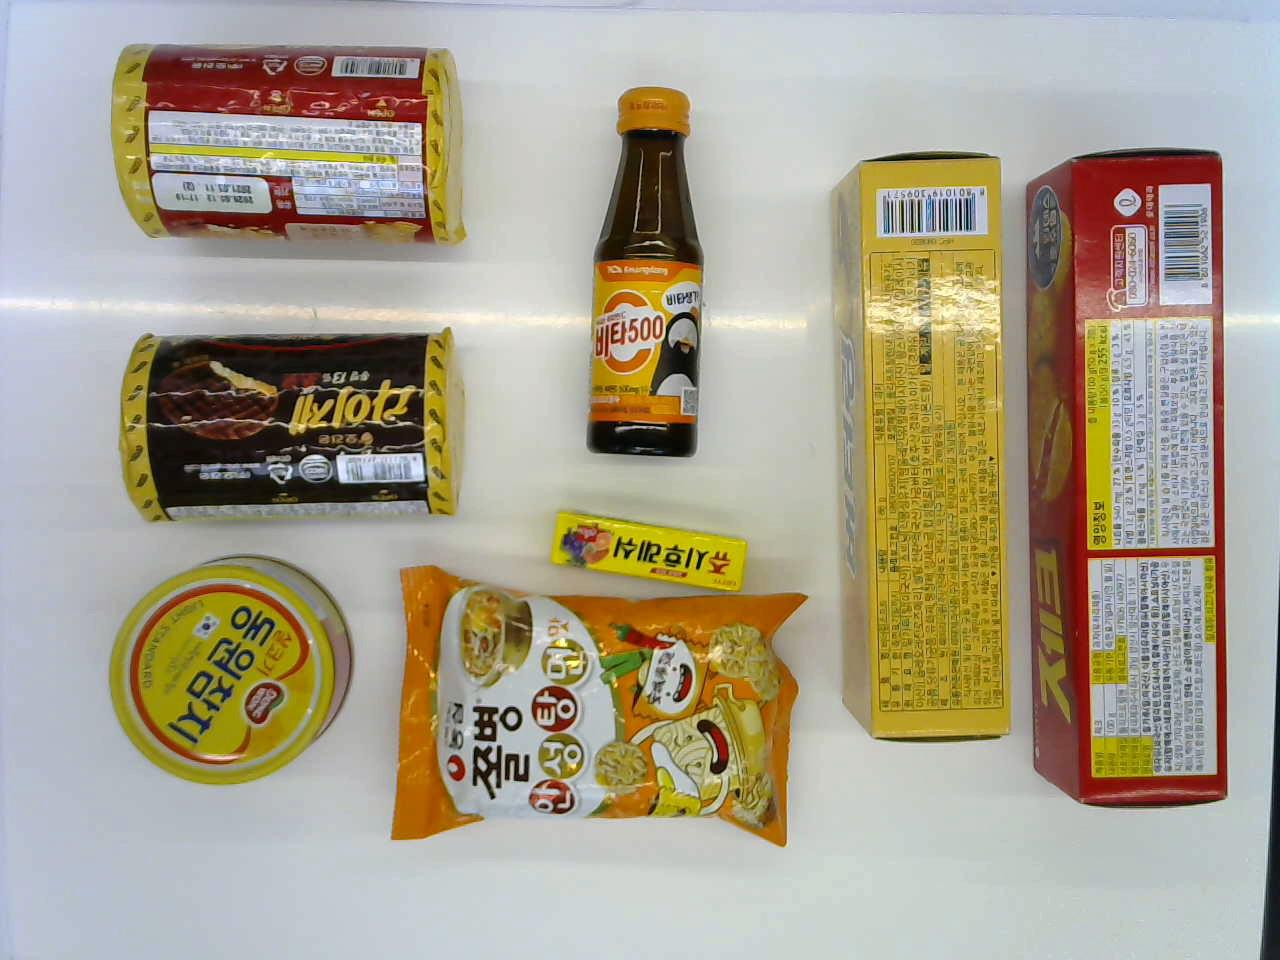buttering: (812, 152, 1020, 752)
diget_choco: (104, 319, 470, 536)
diget_ori: (99, 41, 464, 258)
jjolbyung_noodle: (380, 587, 808, 844)
juicyfresh: (531, 501, 753, 588)
tuna: (99, 553, 357, 785)
vita500: (593, 74, 709, 457)
zec: (1023, 132, 1231, 809)
